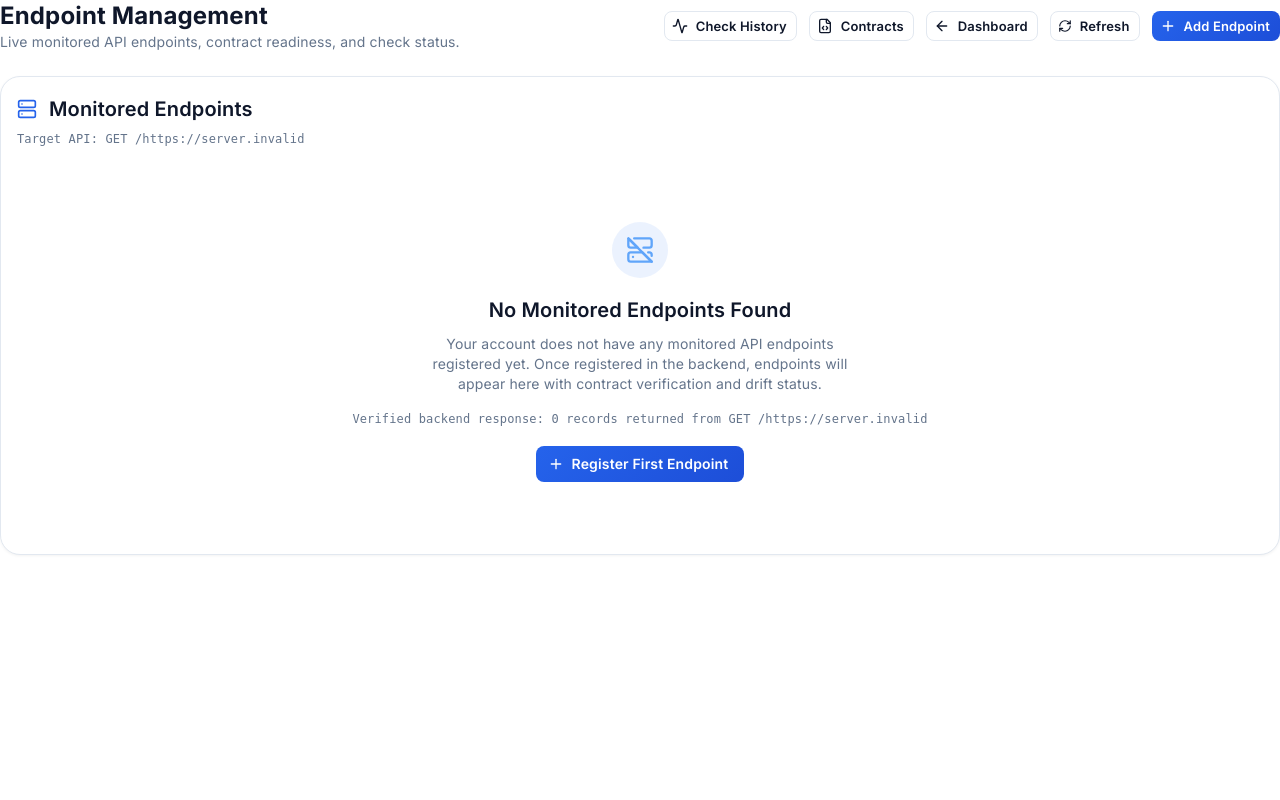
Test: EndpointsPage › opens AddEndpointDialog when empty state Register First Endpoint button is clicked
What coordinates should you click on to do the following:
click the button with test id "empty-add-endpoint-btn"
I would click on:
 (640, 464)
Its box is [536,446,744,482].
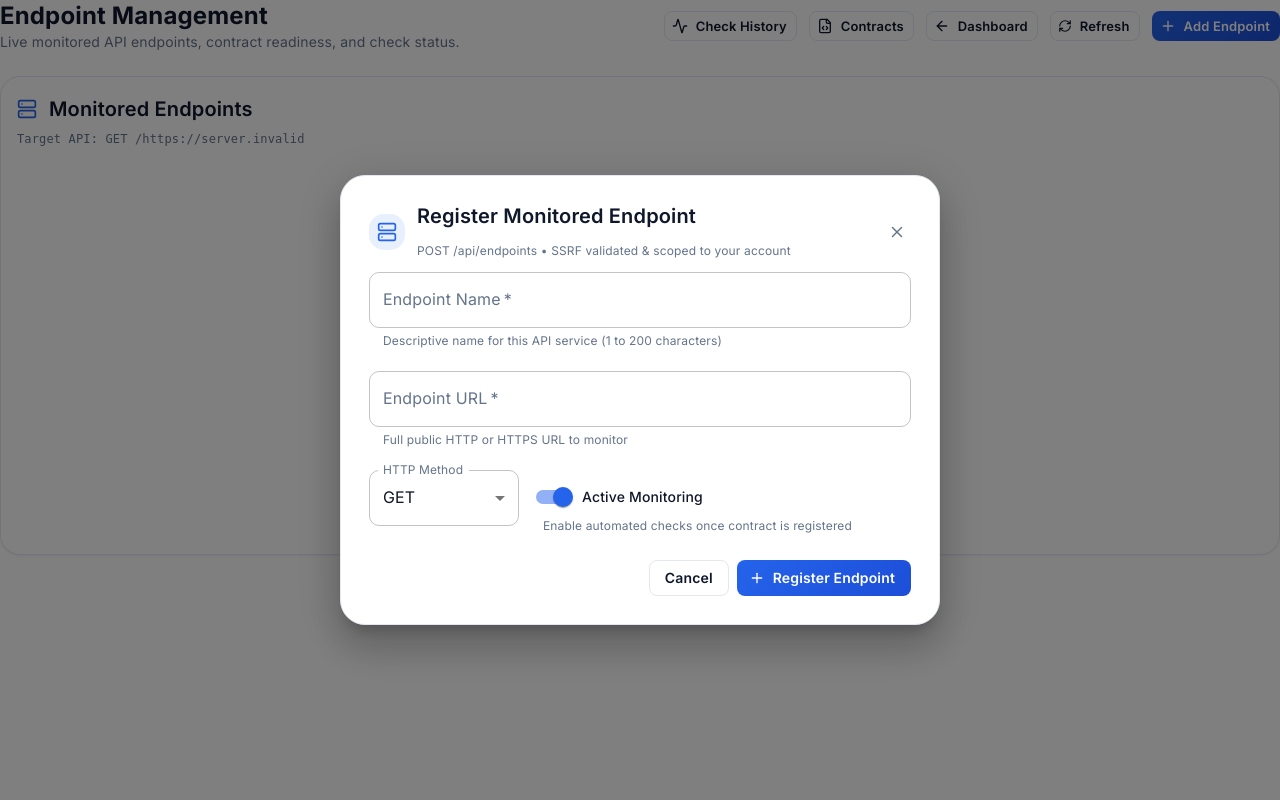
Expected: the element with test id "add-endpoint-dialog" is shown
